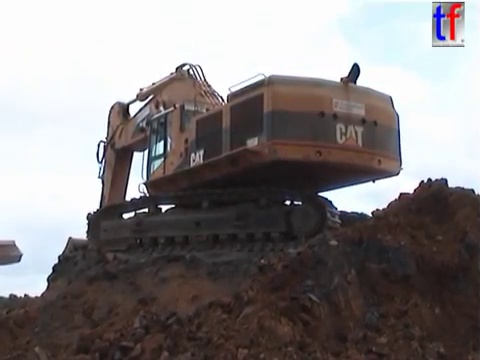excavator: (54, 57, 407, 282)
truck: (1, 237, 24, 270)
